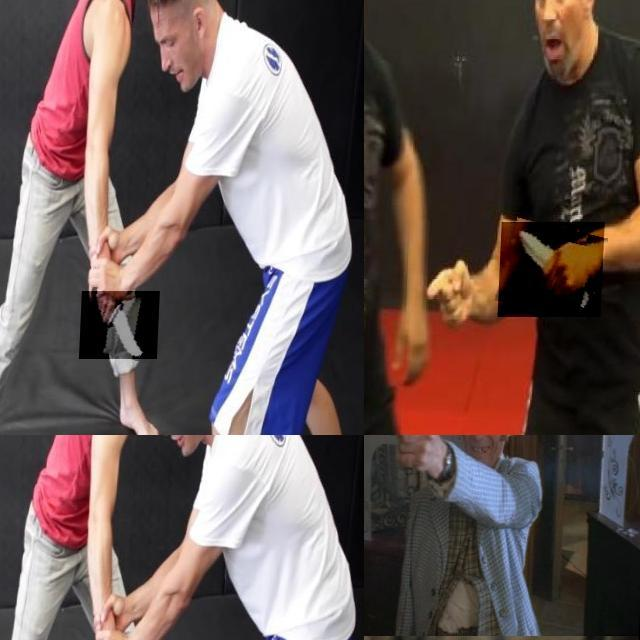-: (502, 222, 608, 317), (83, 290, 163, 360)
gun-knife-thesis - v11 Yolov5 augmented: (364, 435, 431, 498), (364, 435, 388, 529)
